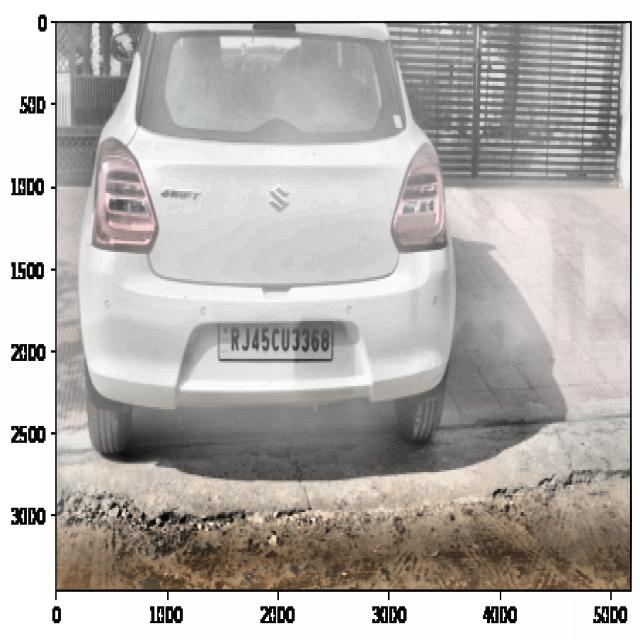license_plate: (227, 319, 334, 365)
